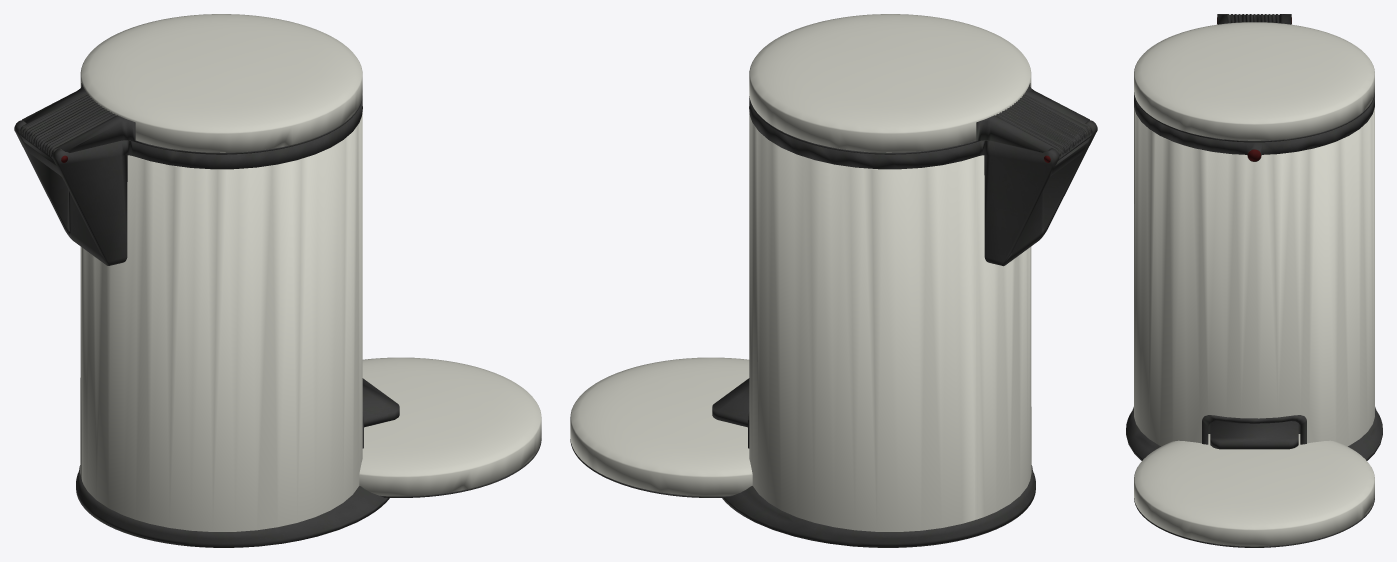
File: bin_waste_a01.glb
The picture shows the model from 3 angles, left to right: view 1: azimuth 30°, elevation 25°; view 2: azimuth 150°, elevation 25°; view 3: azimuth 270°, elevation 25°; orthographic projection. The views are drawn at different scales.
Visible parts, largest first — view 1: body_01_mesh_00, lid_01_mesh_00 (×2), pedal_01_mesh_00; view 2: body_01_mesh_00, lid_01_mesh_00 (×2), pedal_01_mesh_00; view 3: body_01_mesh_00, lid_01_mesh_00 (×2), pedal_01_mesh_00.
Part boxes in pixels (box(x1,y1,x2,y2)): body_01_mesh_00: box(14, 98, 389, 547); lid_01_mesh_00 (×2): box(19, 14, 541, 497); pedal_01_mesh_00: box(362, 378, 399, 427); body_01_mesh_00: box(722, 98, 1097, 547); lid_01_mesh_00 (×2): box(570, 14, 1092, 497); pedal_01_mesh_00: box(712, 378, 749, 427); body_01_mesh_00: box(1126, 14, 1382, 460); lid_01_mesh_00 (×2): box(1134, 14, 1374, 547); pedal_01_mesh_00: box(1210, 421, 1298, 449).
Size of the model in its own units: 0.3369 by 0.3003 by 0.1801.
Materials: 8 (4 with a texture image).
